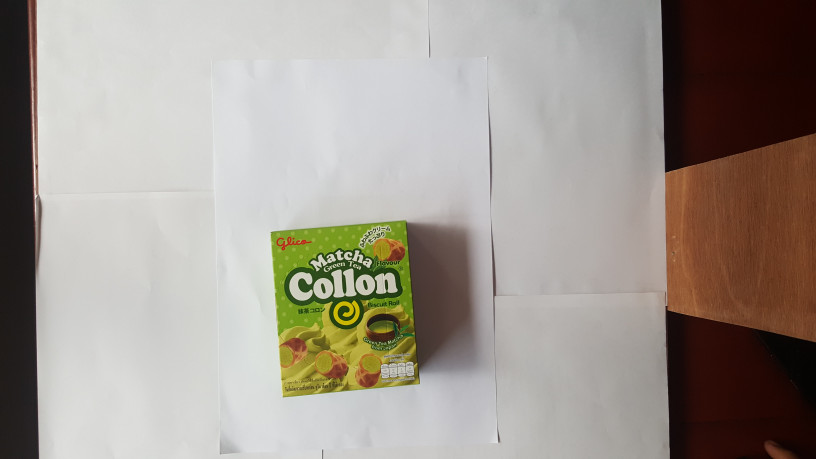collon-matcha: (269, 220, 420, 399)
